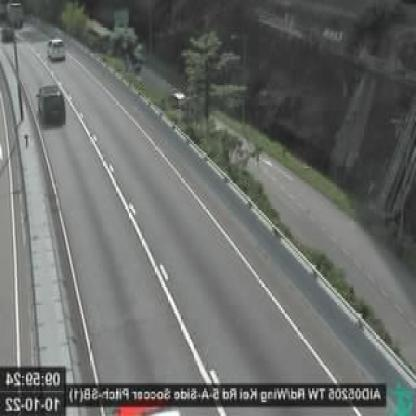Car: (38, 82, 66, 123), (48, 35, 67, 58)
